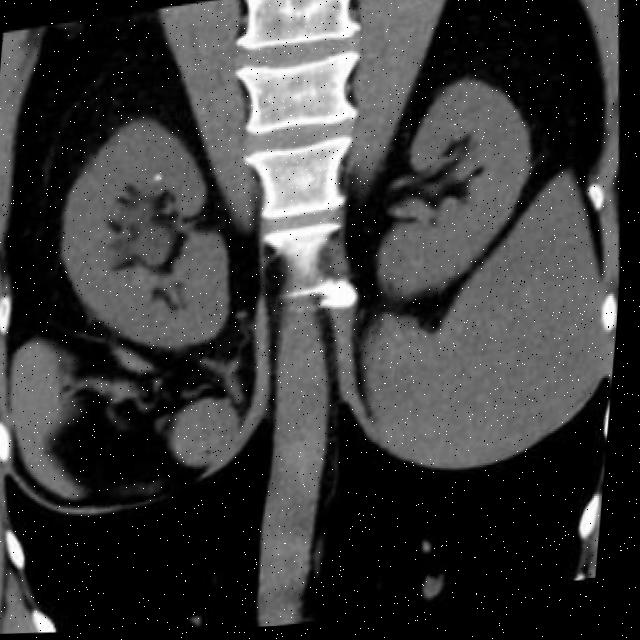Tas_Var: (154, 173, 168, 188)
